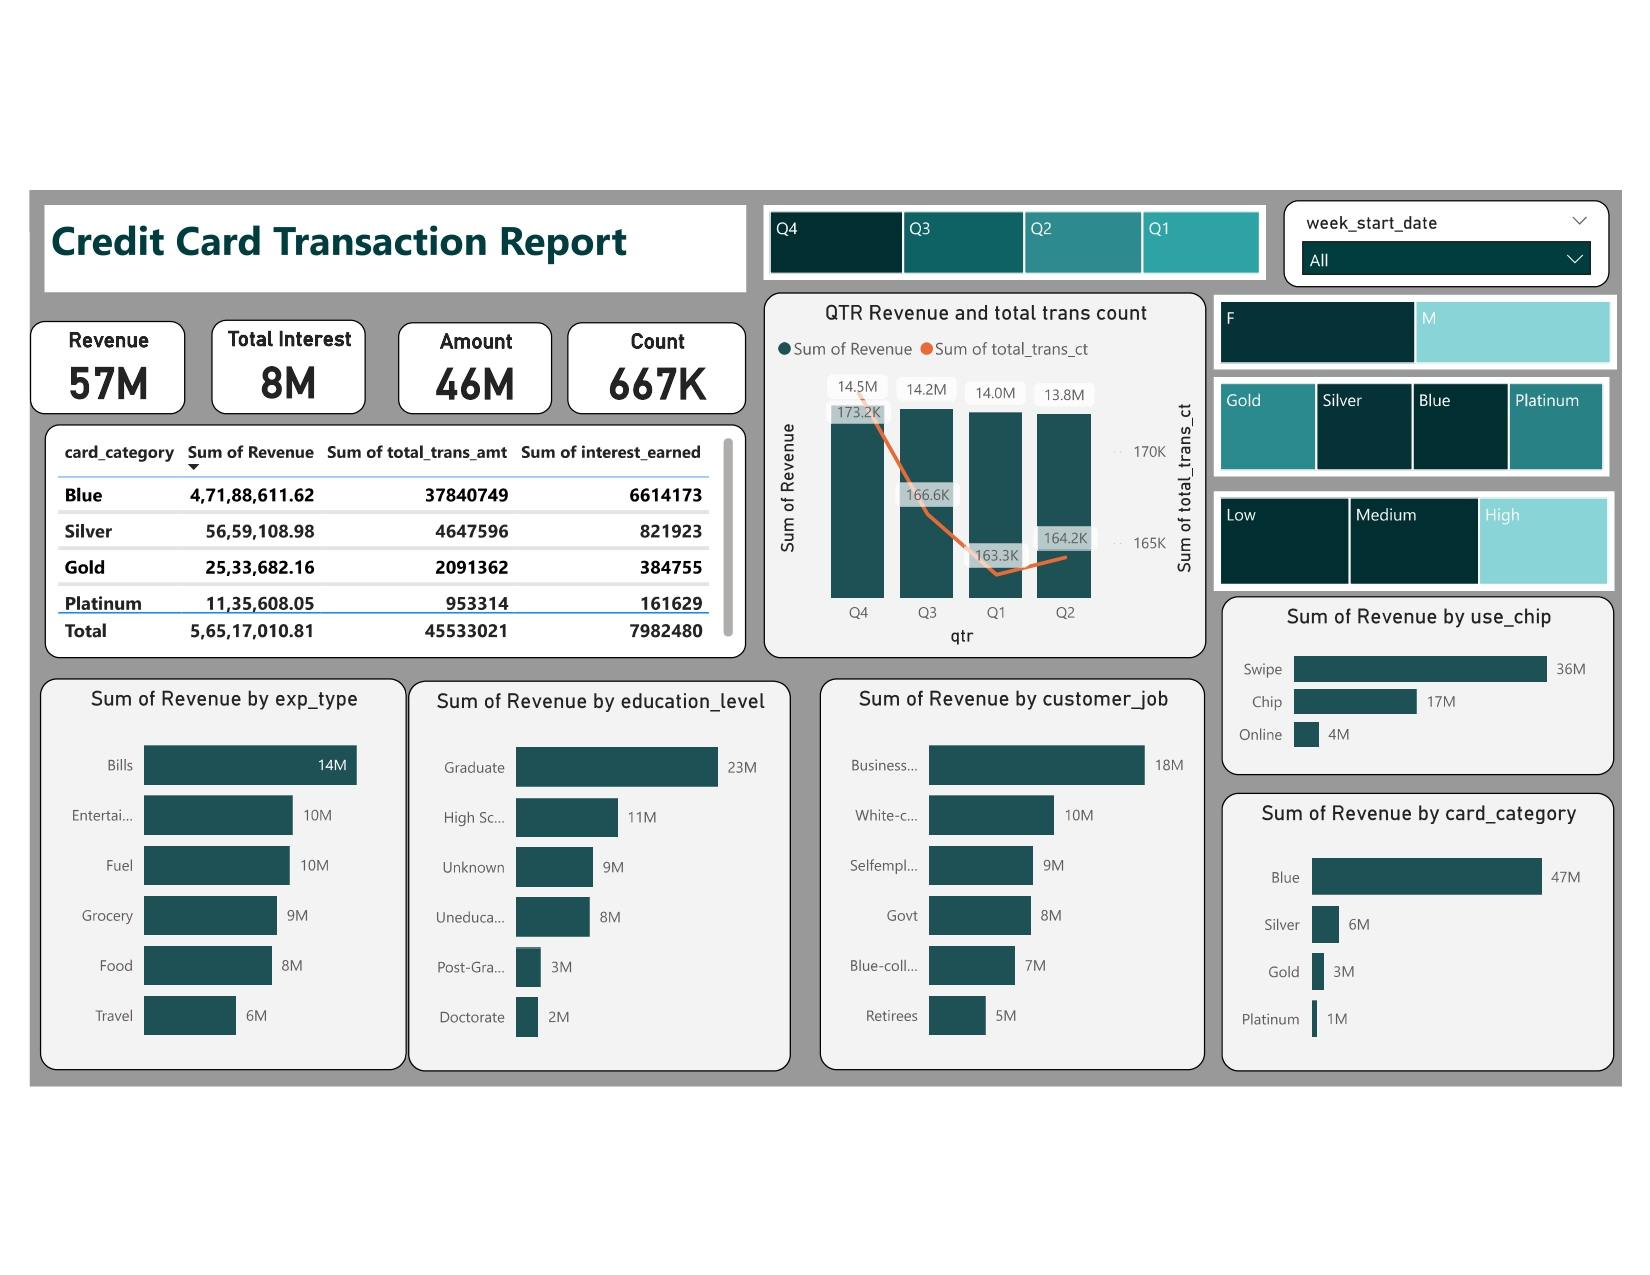

What the dashboard file says about the page in this screenshot:
{"tool":"powerbi","page":{"name":"Page 2","canvas":[1280,720],"ordinal":0},"visuals":[{"type":"textbox","box":[12,12,564,70],"z":0},{"type":"barChart","fields":{"Y":["Sum(public cc_detail.Revenue)"],"Category":["public cc_detail.exp_type"]},"box":[8.3,391.7,295,315],"z":1000},{"type":"barChart","fields":{"Y":["Sum(public cc_detail.Revenue)"],"Category":["public cust_detail.education_level"]},"box":[304,394,308,314],"z":2000},{"type":"barChart","fields":{"Y":["Sum(public cc_detail.Revenue)"],"Category":["public cust_detail.customer_job"]},"box":[635,391.7,310,315],"z":3000},{"type":"barChart","fields":{"Y":["Sum(public cc_detail.Revenue)"],"Category":["public cc_detail.card_category"]},"box":[958,484,316,224],"z":4000},{"type":"barChart","fields":{"Y":["Sum(public cc_detail.Revenue)"],"Category":["public cc_detail.use_chip"]},"box":[958,326,316,144],"z":5000},{"type":"tableEx","fields":{"Values":["public cc_detail.card_category","Sum(public cc_detail.Revenue)","Sum(public cc_detail.total_trans_amt)","Sum(public cc_detail.interest_earned)"]},"box":[8.3,190,565,188.3],"z":6000},{"type":"card","title":"Revenue","fields":{"Values":["Sum(public cc_detail.Revenue)"]},"box":[0,105,125,75],"z":7000},{"type":"card","title":"Amount","fields":{"Values":["Sum(public cc_detail.total_trans_amt)"]},"box":[296,106,124,74],"z":8000},{"type":"card","title":"Total Interest","fields":{"Values":["Sum(public cc_detail.interest_earned)"]},"box":[146,104,124,76],"z":9000},{"type":"card","title":"Count","fields":{"Values":["Sum(public cc_detail.total_trans_ct)"]},"box":[432,106,144,74],"z":10000},{"type":"lineStackedColumnComboChart","title":"QTR Revenue and total trans count ","fields":{"Category":["public cc_detail.qtr"],"Y":["Sum(public cc_detail.Revenue)"],"Y2":["Sum(public cc_detail.total_trans_ct)"]},"box":[590,82,356,294],"z":11000},{"type":"slicer","fields":{"Values":["public cc_detail.week_start_date"]},"box":[1008,8,262,70],"z":12000},{"type":"treemap","fields":{"Group":["public cc_detail.qtr"],"Values":["Avg(public cc_detail.client_num)"]},"box":[590,12,404,60],"z":13000},{"type":"treemap","fields":{"Values":["Avg(public cc_detail.client_num)"],"Group":["public cust_detail.gender"]},"box":[952,84,324,60],"z":14000},{"type":"treemap","fields":{"Values":["Avg(public cc_detail.client_num)"],"Group":["public cc_detail.card_category","public cust_detail.gender"]},"box":[952,150,318,80],"z":15000},{"type":"treemap","fields":{"Values":["Avg(public cc_detail.client_num)"],"Group":["public cust_detail.IncomeGroupo"]},"box":[952,242,322,80],"z":16000}]}

Visuals, with their boxes on the page's 1280x720 design canvas (x1, y1, x2, y2). These are canvas units, not pixel positions in the 1650x1275 screenshot, which may show the page scaled, cropped or inside an application window:
textbox: [12, 12, 576, 82]
barChart - Sum(public cc_detail.Revenue) x public cc_detail.exp_type: [8, 392, 303, 707]
barChart - Sum(public cc_detail.Revenue) x public cust_detail.education_level: [304, 394, 612, 708]
barChart - Sum(public cc_detail.Revenue) x public cust_detail.customer_job: [635, 392, 945, 707]
barChart - Sum(public cc_detail.Revenue) x public cc_detail.card_category: [958, 484, 1274, 708]
barChart - Sum(public cc_detail.Revenue) x public cc_detail.use_chip: [958, 326, 1274, 470]
tableEx - public cc_detail.card_category x Sum(public cc_detail.Revenue): [8, 190, 573, 378]
"Revenue" card: [0, 105, 125, 180]
"Amount" card: [296, 106, 420, 180]
"Total Interest" card: [146, 104, 270, 180]
"Count" card: [432, 106, 576, 180]
"QTR Revenue and total trans count " lineStackedColumnComboChart: [590, 82, 946, 376]
slicer - public cc_detail.week_start_date: [1008, 8, 1270, 78]
treemap - public cc_detail.qtr x Avg(public cc_detail.client_num): [590, 12, 994, 72]
treemap - Avg(public cc_detail.client_num) x public cust_detail.gender: [952, 84, 1276, 144]
treemap - Avg(public cc_detail.client_num) x public cc_detail.card_category: [952, 150, 1270, 230]
treemap - Avg(public cc_detail.client_num) x public cust_detail.IncomeGroupo: [952, 242, 1274, 322]
